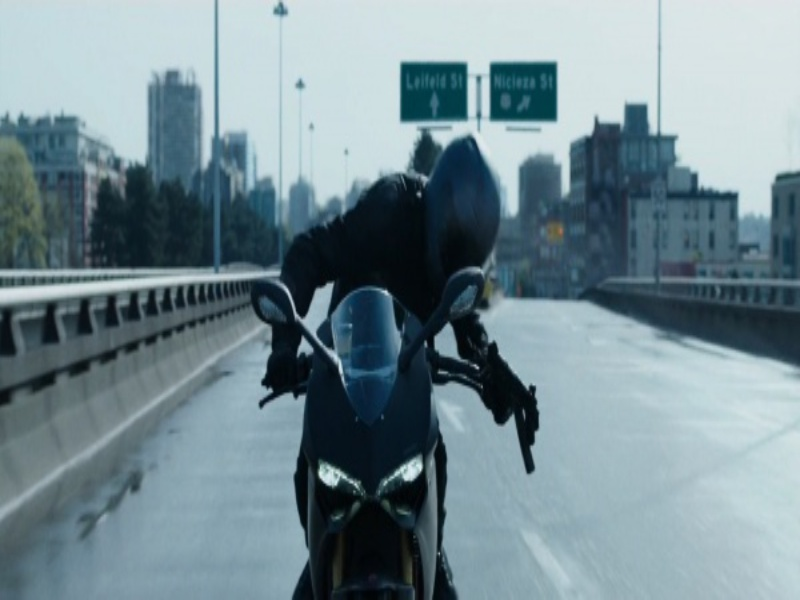person: (257, 137, 529, 399)
weapon: (469, 342, 548, 459)
